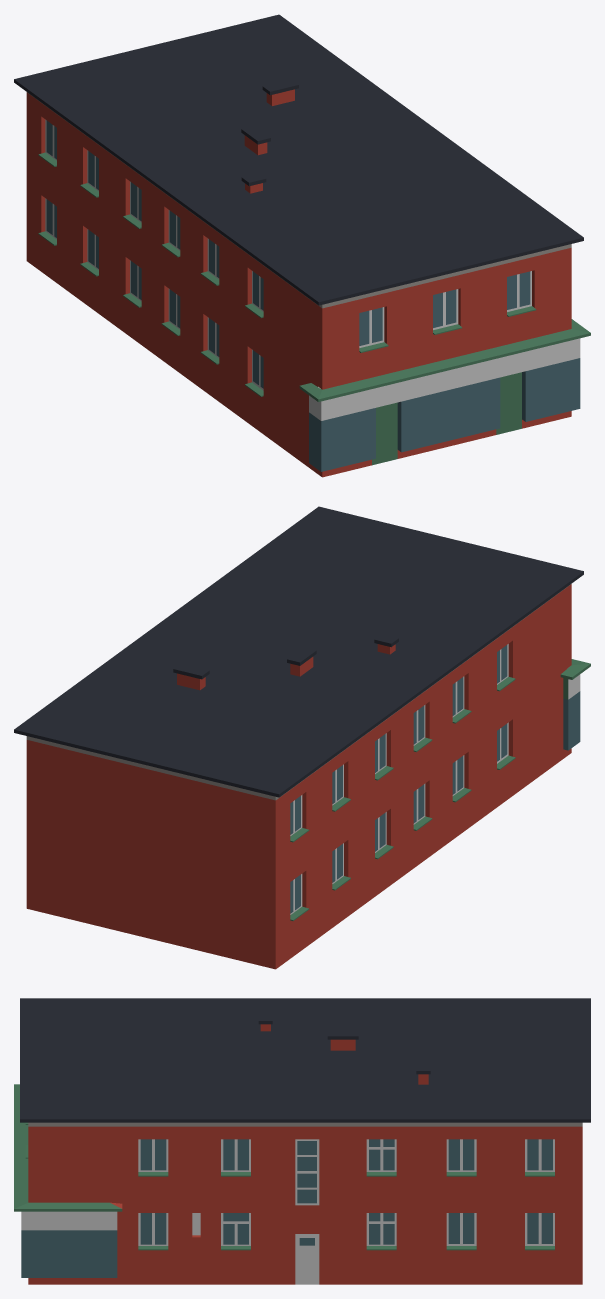
Rendered from house_bata_04.fbx.
3 views of the same model, one above another, from view 1: azimuth 30°, elevation 25°; view 2: azimuth 150°, elevation 25°; view 3: azimuth 270°, elevation 25° (orthographic). The views are drawn at different scales.
Parts seen in each view (by area): view 1: house_bata_04; view 2: house_bata_04; view 3: house_bata_04.
Part boxes in pixels (x1,y1,x2,y2): house_bata_04: (14,14,590,477); house_bata_04: (14,506,590,969); house_bata_04: (14,998,590,1284).
Size of the model in its own units: 987 by 679 by 1931.
